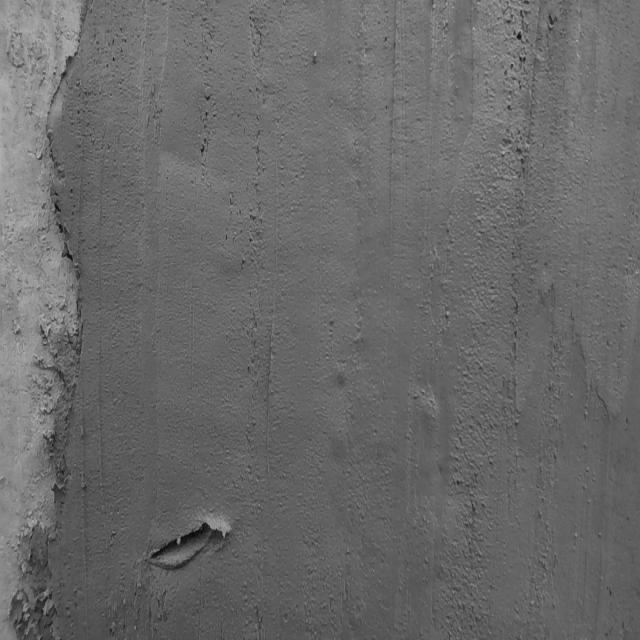trowels marks: (509, 1, 546, 424), (265, 115, 277, 509), (385, 0, 405, 227)
